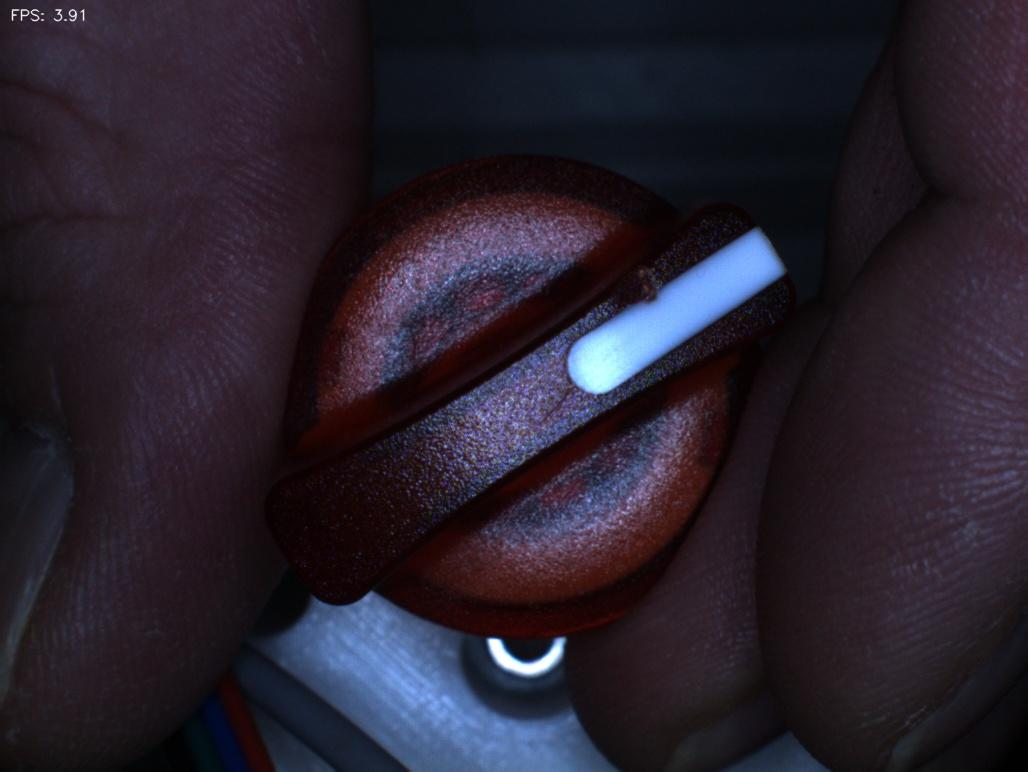Choc: (591, 233, 694, 327)
